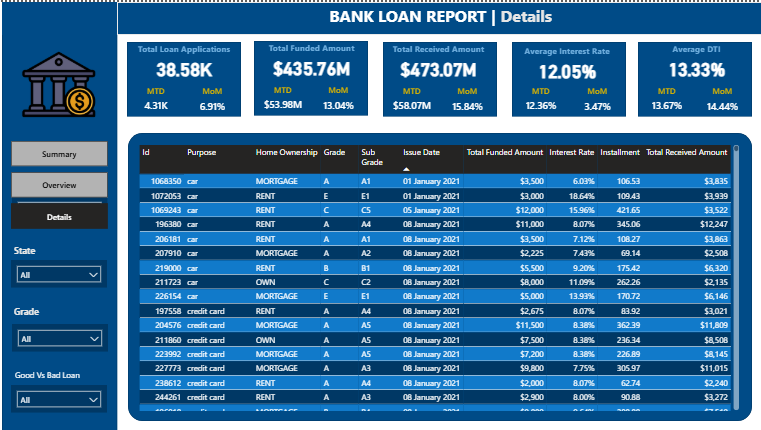

Layout of this report page (visuals, bound fields, positions):
{"tool":"powerbi","page":{"name":"Details","canvas":[1280,720],"ordinal":2},"visuals":[{"type":"shape","box":[9.5,0,192.1,720.6],"z":0},{"type":"slicer","fields":{"Values":["bank_loans_data.address_state"]},"box":[25.4,430.1,160.3,46],"z":0,"group":"g6"},{"type":"slicer","fields":{"Values":["bank_loans_data.grade"]},"box":[26.3,536.8,160.3,46],"z":0,"group":"g7"},{"type":"slicer","fields":{"Values":["bank_loans_data.Good vs Bad Loans"]},"box":[25.4,638.1,160.3,46],"z":0,"group":"g8"},{"type":"shape","box":[10.1,0,1269.9,55.4],"z":1000},{"type":"textbox","box":[27,292.1,115.9,31.7],"z":1000,"group":"g9"},{"type":"textbox","box":[25.4,398.4,115.9,31.7],"z":1000,"group":"g6"},{"type":"textbox","box":[25.4,500,74.6,30.2],"z":1000,"group":"g7"},{"type":"textbox","box":[26.8,608.3,131.8,29.9],"z":2000},{"type":"textbox","box":[201.6,0,1078.4,55.4],"z":3000},{"type":"shape","box":[430.7,65.1,190,124.4],"z":3000,"group":"g1"},{"type":"shape","box":[219.7,66.1,190,124.4],"z":3000,"group":"g4"},{"type":"shape","box":[860.5,66.4,190,124.4],"z":3000,"group":"g3"},{"type":"shape","box":[645.1,66.7,190,124.4],"z":3000,"group":"g2"},{"type":"group","id":"g1","title":"Group 2","box":[430.7,65.1,190,129.6],"z":4000},{"type":"shape","box":[1069.8,65.9,190,124.4],"z":4000,"group":"g5"},{"type":"card","title":"MTD","fields":{"Values":["bank_loans_data.MTD Funded Amount"]},"box":[431,138.3,96.1,53],"z":4000,"group":"g1"},{"type":"card","title":"MTD","fields":{"Values":["bank_loans_data.MTD Loan Applications"]},"box":[220,139.3,96.1,53],"z":4000,"group":"g4"},{"type":"card","title":"MTD","fields":{"Values":["bank_loans_data.MTD Interest Rate"]},"box":[860.8,139.6,96.1,53],"z":4000,"group":"g3"},{"type":"card","title":"MTD","fields":{"Values":["bank_loans_data.MTD Amount Received"]},"box":[645.4,139.9,96.1,53],"z":4000,"group":"g2"},{"type":"group","id":"g2","title":"Group 2","box":[640.2,66.7,195.2,128.6],"z":5000},{"type":"card","title":"Total Funded Amount","fields":{"Values":["bank_loans_data.Total Funded Amount"]},"box":[433.5,67.5,185.2,65.4],"z":5000,"group":"g1"},{"type":"card","title":"Total Loan Applications","fields":{"Values":["bank_loans_data.Total Loan Applications"]},"box":[217.5,68.5,193.8,65.4],"z":5000,"group":"g4"},{"type":"card","title":"Total Received Amount","fields":{"Values":["bank_loans_data.Total Amount Received"]},"box":[640.2,69.1,195.1,65.4],"z":5000,"group":"g2"},{"type":"card","title":"Average Interest Rate","fields":{"Values":["bank_loans_data.Avg Interest Rate"]},"box":[855,71.9,193.8,65.4],"z":5000,"group":"g3"},{"type":"group","id":"g3","title":"Group 2","box":[855,66.4,195.2,128.6],"z":6000},{"type":"card","title":"MoM","fields":{"Values":["bank_loans_data.MoM Funded Amount"]},"box":[538.1,138.4,67.8,56.3],"z":6000,"group":"g1"},{"type":"card","title":"MTD","fields":{"Values":["bank_loans_data.MTD DTI"]},"box":[1070.1,139.1,96.1,53],"z":6000,"group":"g5"},{"type":"card","title":"MoM","fields":{"Values":["bank_loans_data.MoM"]},"box":[327,139.4,67.8,56.3],"z":6000,"group":"g4"},{"type":"card","title":"MoM","fields":{"Values":["bank_loans_data.MoM Interest Rate"]},"box":[967.9,139.7,67.8,56.3],"z":6000,"group":"g3"},{"type":"card","title":"MoM","fields":{"Values":["bank_loans_data.MoM Amount Received"]},"box":[752.5,140,67.8,56.3],"z":6000,"group":"g2"},{"type":"group","id":"g4","title":"Group 2","box":[217.5,66.1,193.7,128.6],"z":7000},{"type":"group","id":"g5","title":"Group 1","box":[1069.8,65.9,190,129.6],"z":8000},{"type":"card","title":"Average DTI","fields":{"Values":["bank_loans_data.Avg DTI"]},"box":[1074.3,68.3,185.2,65.4],"z":8000,"group":"g5"},{"type":"card","title":"MoM","fields":{"Values":["bank_loans_data.MoM DTI"]},"box":[1177.2,139.2,67.8,56.3],"z":9000,"group":"g5"},{"type":"shape","box":[220,218.3,1040,480],"z":9000},{"type":"group","id":"g6","title":"Group 3","box":[25.4,398.4,160.3,77.8],"z":11000},{"type":"group","id":"g7","title":"Group 3","box":[25.4,500,160.3,82.5],"z":12000},{"type":"group","id":"g8","title":"Group 3","box":[25.4,638.1,160.3,46],"z":13000},{"type":"group","id":"g9","title":"Group 4","box":[27,292.1,158.7,84.1],"z":15000},{"type":"tableEx","fields":{"Values":["bank_loans_data.id","bank_loans_data.purpose","bank_loans_data.home_ownership","bank_loans_data.grade","bank_loans_data.sub_grade","bank_loans_data.issue_date","bank_loans_data.Total Funded Amount","bank_loans_data.int_rate","bank_loans_data.installment","bank_loans_data.Total Received Amount"]},"box":[233.3,233.3,1010,451.7],"z":15001},{"type":"image","box":[11.7,68.3,186.7,138.3],"z":15002},{"type":"pageNavigator","box":[25,231.7,161.7,148.3],"z":15003},{"type":"slicer","fields":{"Values":["Select Measure.Select Measure"]},"box":[27,323.8,158.7,52.4],"z":22002,"group":"g9"}]}

Visuals, with their boxes in screenshot pixels (x1, y1, x2, y2), scaled from the page's 1280x720 canvas onto the 761x430 screenshot:
shape: {"x1": 6, "y1": 0, "x2": 120, "y2": 429}
slicer - bank_loans_data.address_state: {"x1": 15, "y1": 257, "x2": 110, "y2": 284}
slicer - bank_loans_data.grade: {"x1": 16, "y1": 321, "x2": 111, "y2": 348}
slicer - bank_loans_data.Good vs Bad Loans: {"x1": 15, "y1": 381, "x2": 110, "y2": 409}
shape: {"x1": 6, "y1": 0, "x2": 760, "y2": 33}
textbox: {"x1": 16, "y1": 174, "x2": 85, "y2": 193}
textbox: {"x1": 15, "y1": 238, "x2": 84, "y2": 257}
textbox: {"x1": 15, "y1": 299, "x2": 59, "y2": 317}
textbox: {"x1": 16, "y1": 363, "x2": 94, "y2": 381}
textbox: {"x1": 120, "y1": 0, "x2": 760, "y2": 33}
shape: {"x1": 256, "y1": 39, "x2": 369, "y2": 113}
shape: {"x1": 131, "y1": 39, "x2": 244, "y2": 114}
shape: {"x1": 512, "y1": 40, "x2": 625, "y2": 114}
shape: {"x1": 384, "y1": 40, "x2": 496, "y2": 114}
"Group 2" group: {"x1": 256, "y1": 39, "x2": 369, "y2": 116}
shape: {"x1": 636, "y1": 39, "x2": 749, "y2": 114}
"MTD" card: {"x1": 256, "y1": 83, "x2": 313, "y2": 114}
"MTD" card: {"x1": 131, "y1": 83, "x2": 188, "y2": 115}
"MTD" card: {"x1": 512, "y1": 83, "x2": 569, "y2": 115}
"MTD" card: {"x1": 384, "y1": 84, "x2": 441, "y2": 115}
"Group 2" group: {"x1": 381, "y1": 40, "x2": 497, "y2": 117}
"Total Funded Amount" card: {"x1": 258, "y1": 40, "x2": 368, "y2": 79}
"Total Loan Applications" card: {"x1": 129, "y1": 41, "x2": 245, "y2": 80}
"Total Received Amount" card: {"x1": 381, "y1": 41, "x2": 497, "y2": 80}
"Average Interest Rate" card: {"x1": 508, "y1": 43, "x2": 624, "y2": 82}
"Group 2" group: {"x1": 508, "y1": 40, "x2": 624, "y2": 116}
"MoM" card: {"x1": 320, "y1": 83, "x2": 360, "y2": 116}
"MTD" card: {"x1": 636, "y1": 83, "x2": 693, "y2": 115}
"MoM" card: {"x1": 194, "y1": 83, "x2": 235, "y2": 117}
"MoM" card: {"x1": 575, "y1": 83, "x2": 616, "y2": 117}
"MoM" card: {"x1": 447, "y1": 84, "x2": 488, "y2": 117}
"Group 2" group: {"x1": 129, "y1": 39, "x2": 244, "y2": 116}
"Group 1" group: {"x1": 636, "y1": 39, "x2": 749, "y2": 117}
"Average DTI" card: {"x1": 639, "y1": 41, "x2": 749, "y2": 80}
"MoM" card: {"x1": 700, "y1": 83, "x2": 740, "y2": 117}
shape: {"x1": 131, "y1": 130, "x2": 749, "y2": 417}
"Group 3" group: {"x1": 15, "y1": 238, "x2": 110, "y2": 284}
"Group 3" group: {"x1": 15, "y1": 299, "x2": 110, "y2": 348}
"Group 3" group: {"x1": 15, "y1": 381, "x2": 110, "y2": 409}
"Group 4" group: {"x1": 16, "y1": 174, "x2": 110, "y2": 225}
tableEx - bank_loans_data.id x bank_loans_data.purpose: {"x1": 139, "y1": 139, "x2": 739, "y2": 409}
image: {"x1": 7, "y1": 41, "x2": 118, "y2": 123}
pageNavigator: {"x1": 15, "y1": 138, "x2": 111, "y2": 227}
slicer - Select Measure.Select Measure: {"x1": 16, "y1": 193, "x2": 110, "y2": 225}
